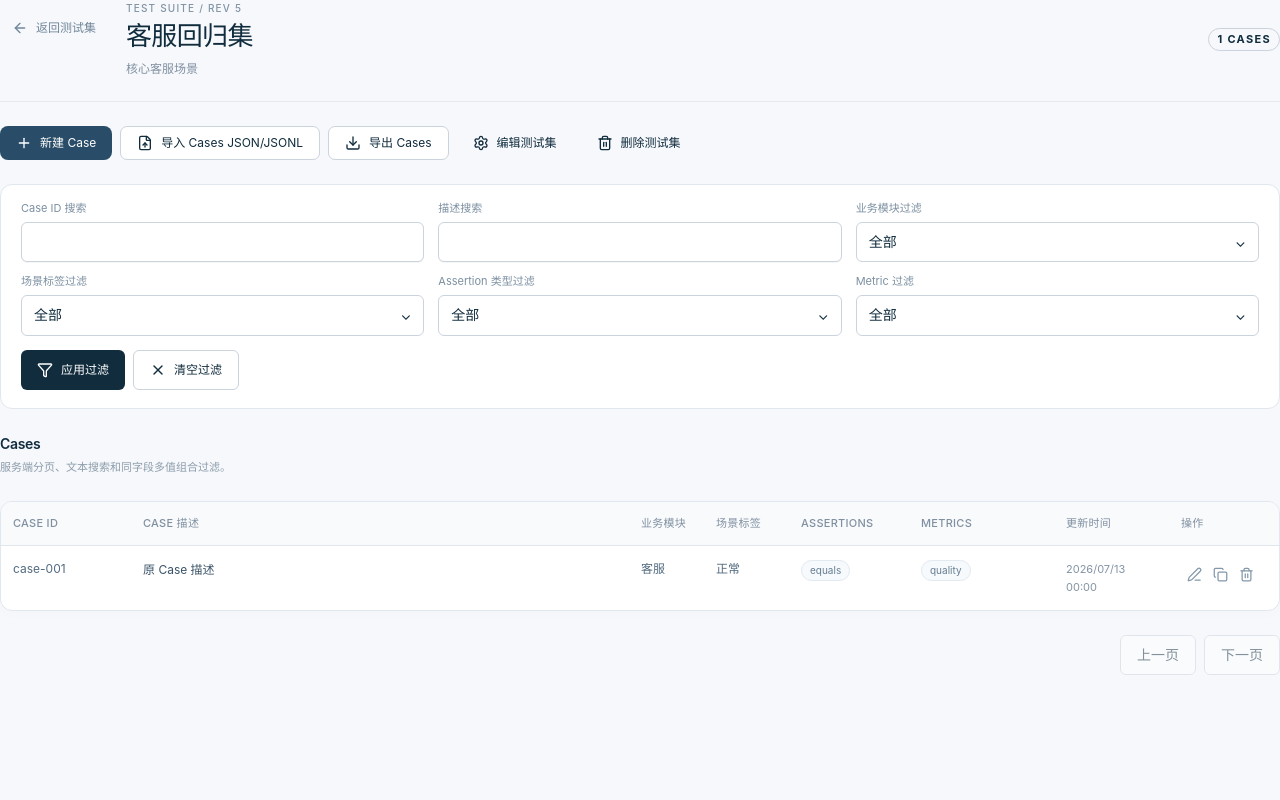
测试集详情页 Case 资源写操作 › Case COPY 冲突重试遇到终态失败时在原 owner 显示错误并保留输入
This screenshot has width=1280, height=800.
Expected: the heading "客服回归集" is shown, [126,20,253,51]
Step 1. Click the button named "复制 case-001" → (1220, 574), box [1207,560,1233,588]
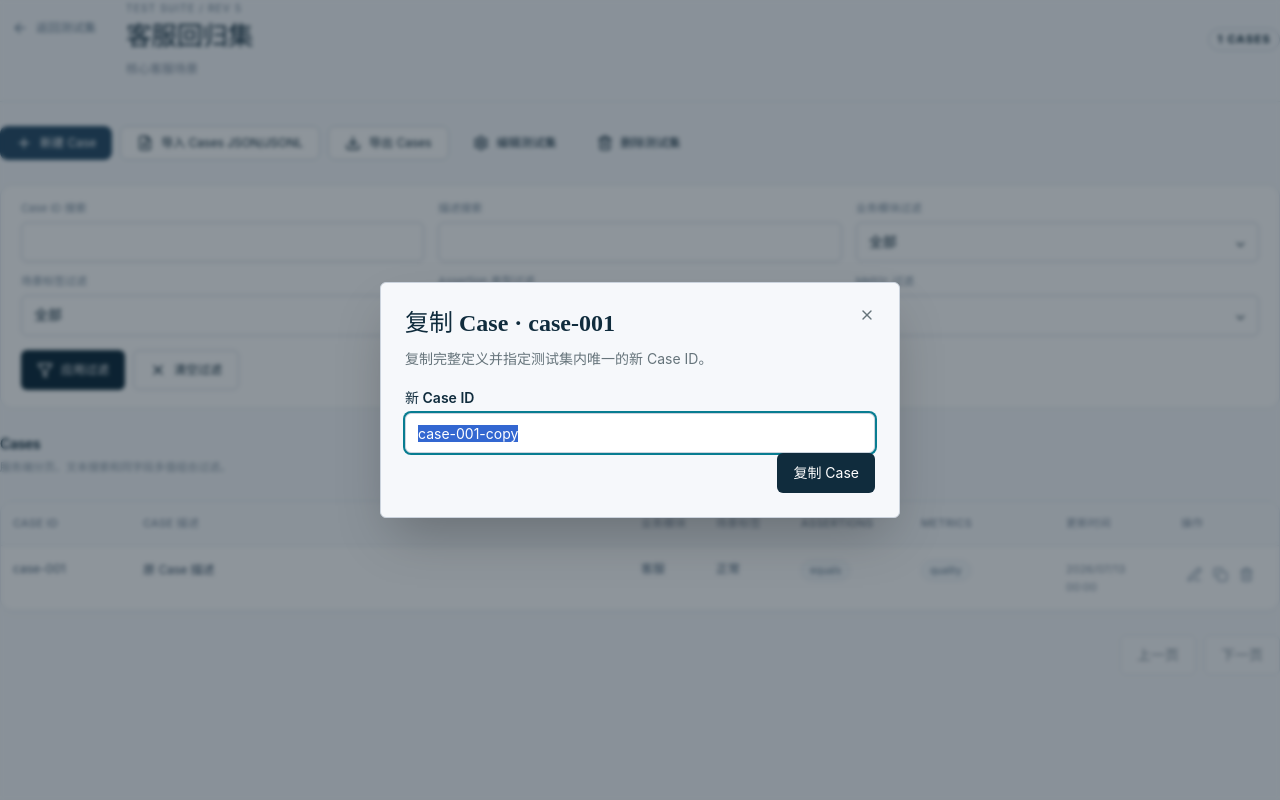
Step 2. Replace the text in the field labelled "新 Case ID" with "retained-copy" → (640, 433), box [405,413,875,453]
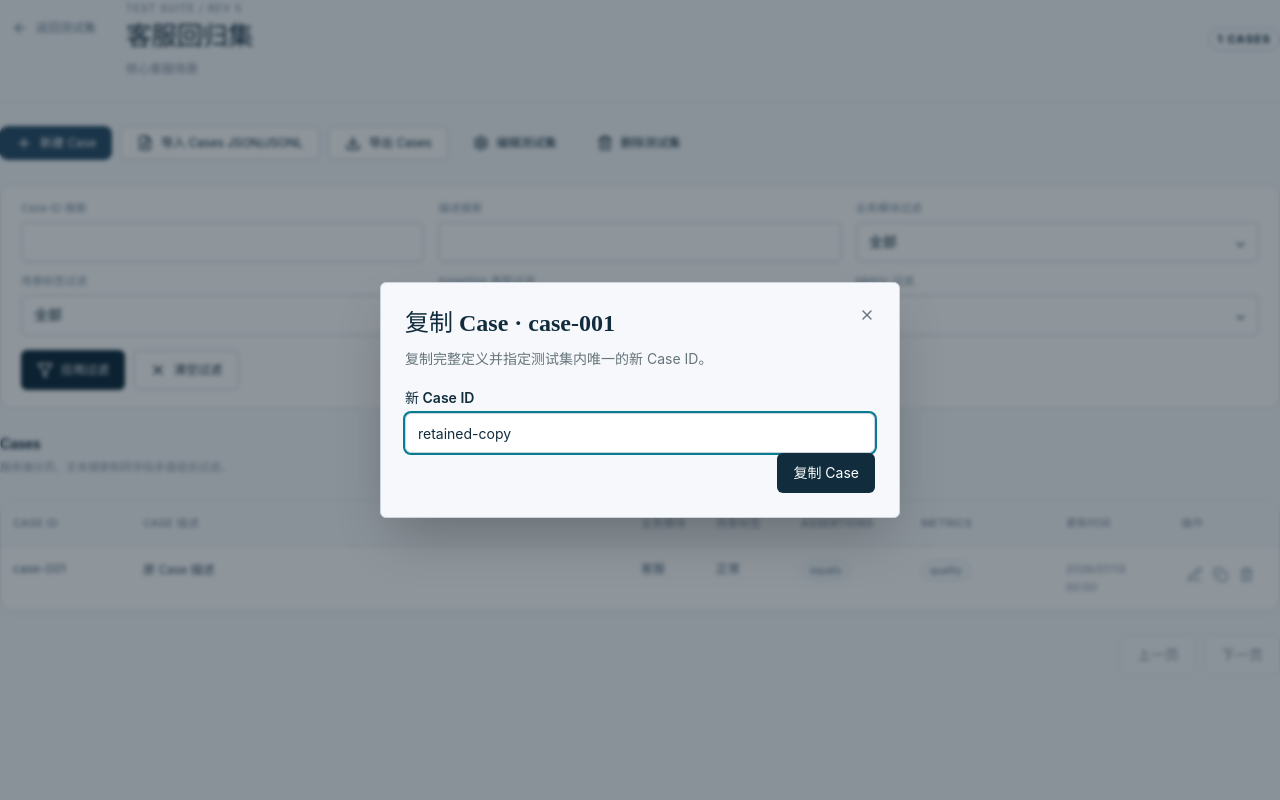
Step 3. Click the button "复制 Case" → (826, 473), box [777,453,875,493]
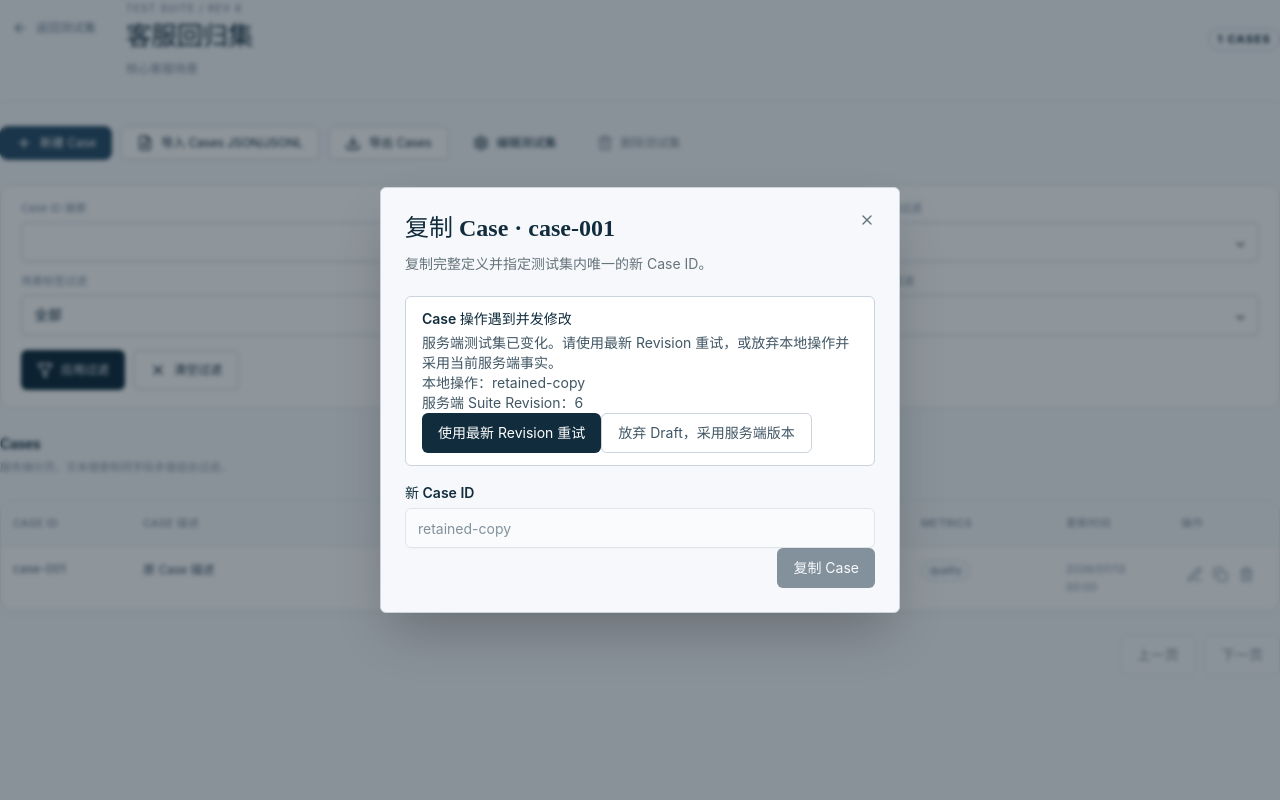
Now the heading "Case 操作遇到并发修改" is shown, box [422,310,572,327]
Step 4. Click the button "使用最新 Revision 重试" → (512, 433), box [422,413,601,453]
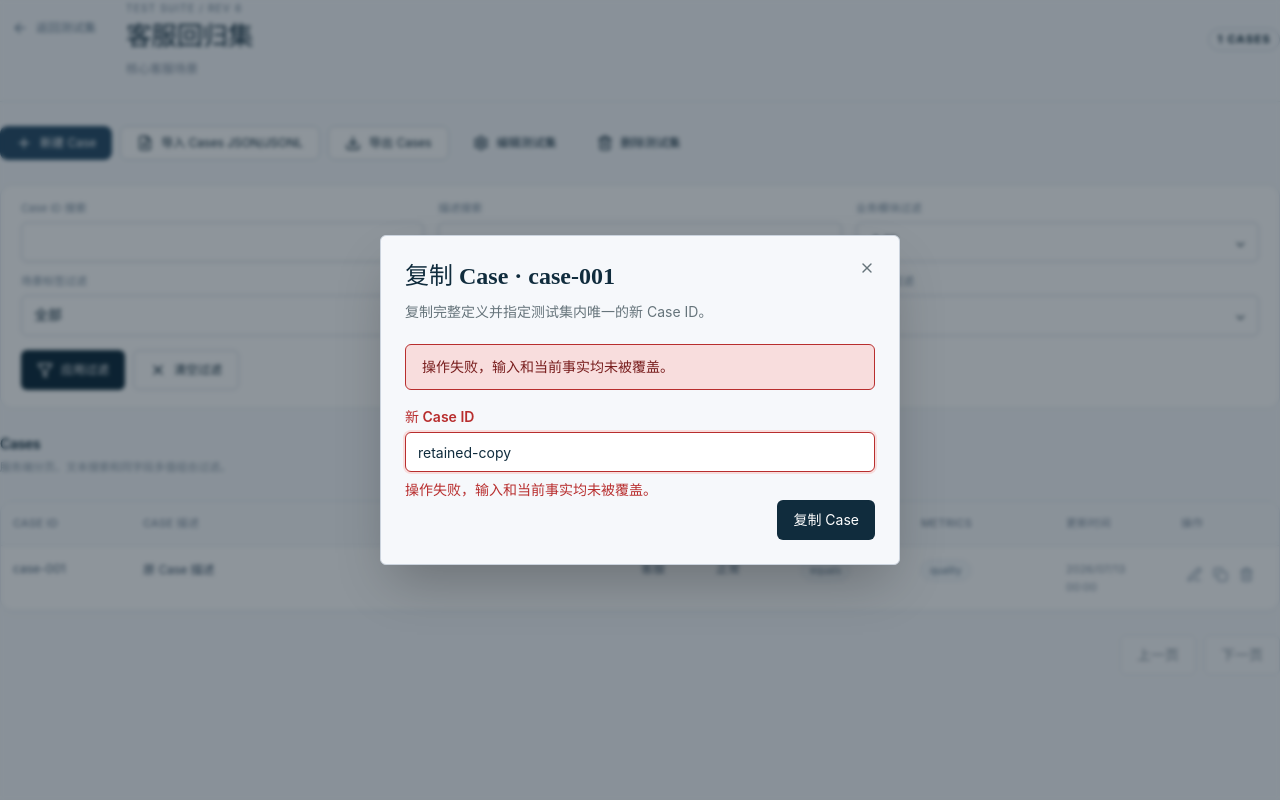
Now the text "复制 Case · case-001" is shown, box [405,263,615,289]
Now the heading "Case 操作遇到并发修改" is gone
Now the 1st text "操作失败，输入和当前事实均未被覆盖。" is shown, box [422,358,674,375]
